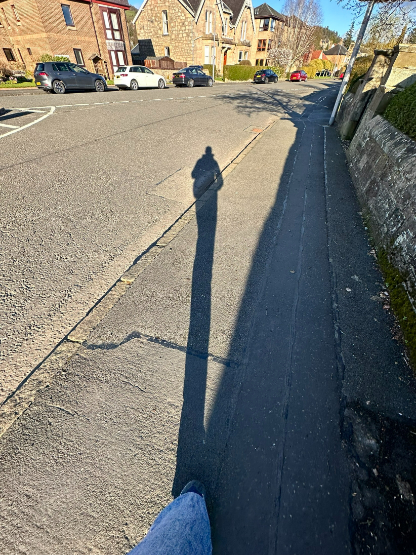car: (21, 50, 105, 102), (118, 61, 172, 92), (175, 62, 221, 91), (252, 66, 279, 90), (290, 66, 313, 82)
tree: (273, 1, 321, 60)
